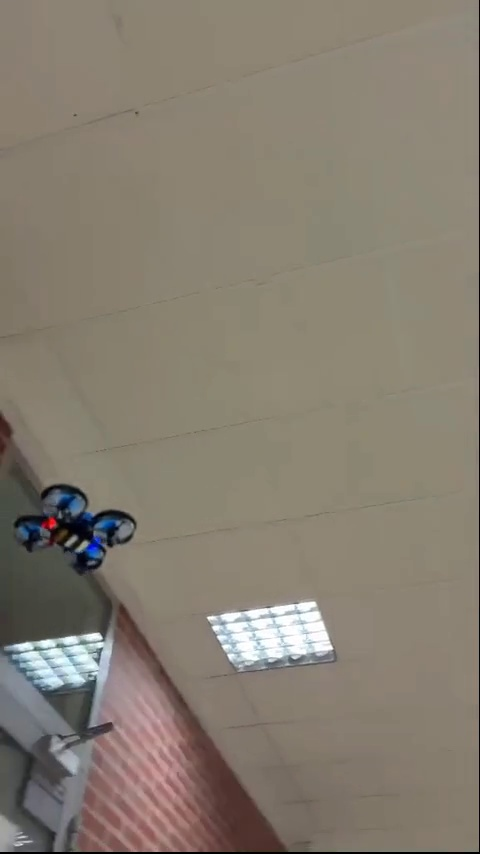drone: (14, 484, 137, 575)
